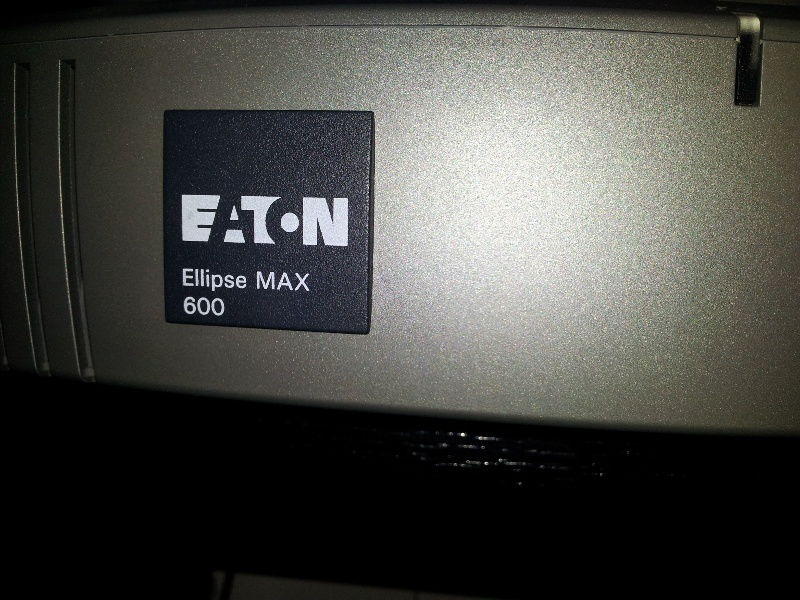text: (193, 195, 208, 247), (209, 195, 224, 247), (225, 195, 240, 247), (241, 195, 256, 247), (257, 195, 272, 247), (273, 195, 288, 247), (289, 195, 304, 247), (305, 195, 320, 247), (321, 195, 336, 247), (337, 195, 350, 247), (182, 195, 192, 247), (193, 268, 208, 293), (209, 268, 224, 293), (225, 268, 240, 293), (257, 271, 272, 293), (273, 271, 288, 293), (289, 271, 304, 293), (193, 296, 208, 318), (209, 296, 224, 318), (183, 268, 192, 293), (184, 296, 192, 318), (241, 268, 248, 293), (305, 271, 312, 293), (225, 296, 226, 318)
